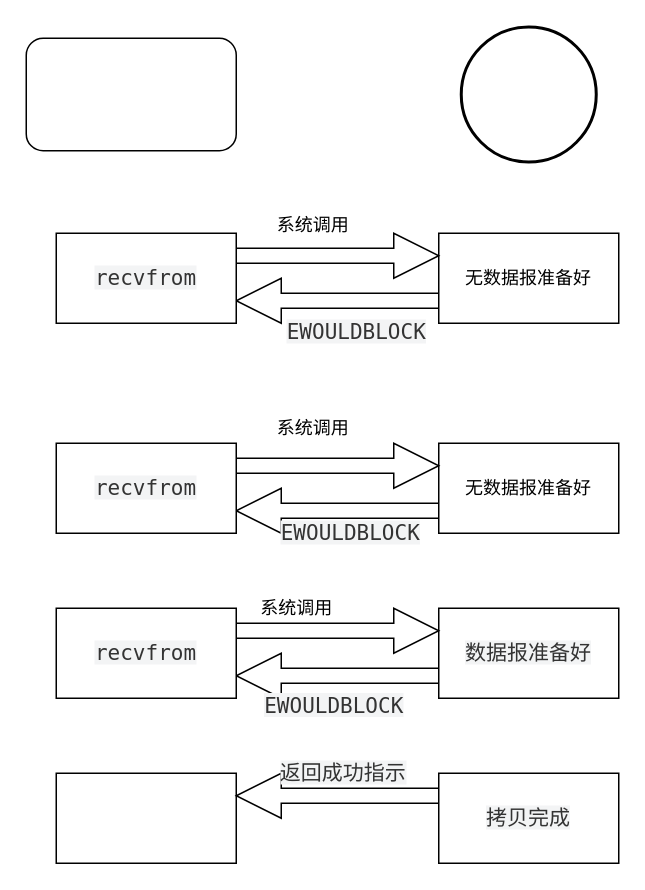
This 645x890 diagram has some shape labels left out. Here are the shapes that lost their labels. From the top down, the box of each, then its label:
(25, 37, 236, 151): 应用程序
(459, 25, 597, 163): 内核
(55, 772, 236, 863): 处理数据报
